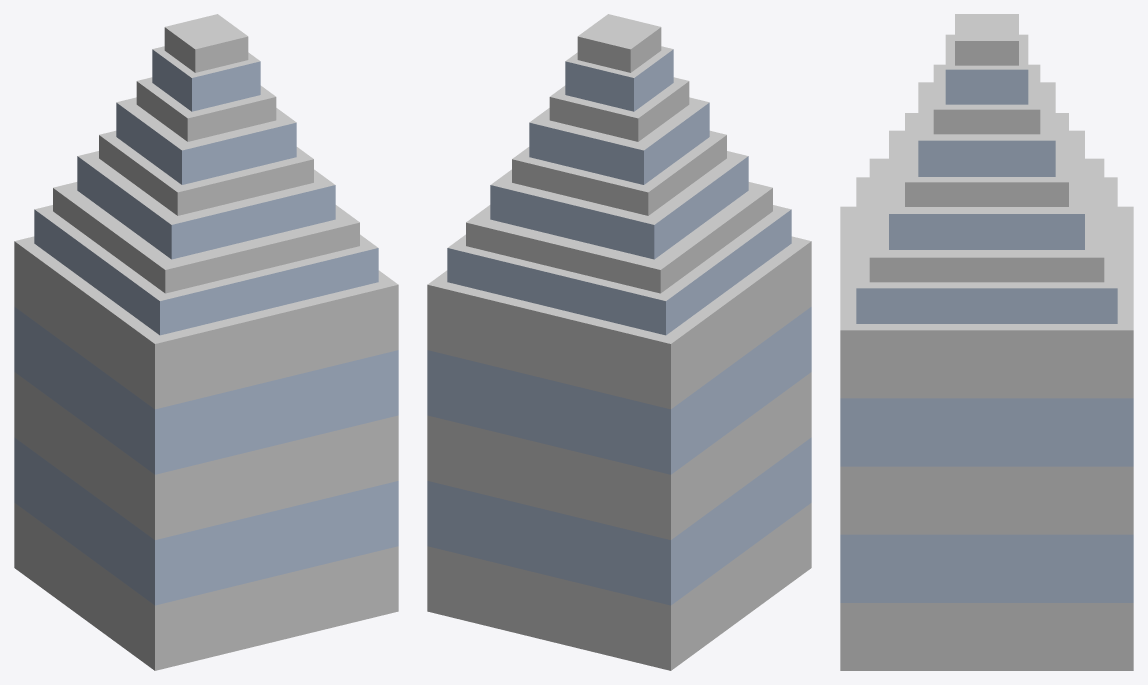
Rendered from Hochhaus_Turm.fbx.
3 renders of one model, left to right at view 1: azimuth 30°, elevation 25°; view 2: azimuth 150°, elevation 25°; view 3: azimuth 270°, elevation 25°, orthographic. The views are drawn at different scales.
Parts seen in each view (by area): view 1: Haus_Turm; view 2: Haus_Turm; view 3: Haus_Turm.
Boxes of the visible parts, x1,y1,x2,y2 form: Haus_Turm: (14,14,398,670); Haus_Turm: (427,14,811,670); Haus_Turm: (840,14,1133,670).
Bounding box in the file's own units: 2283 × 4998 × 2283.
